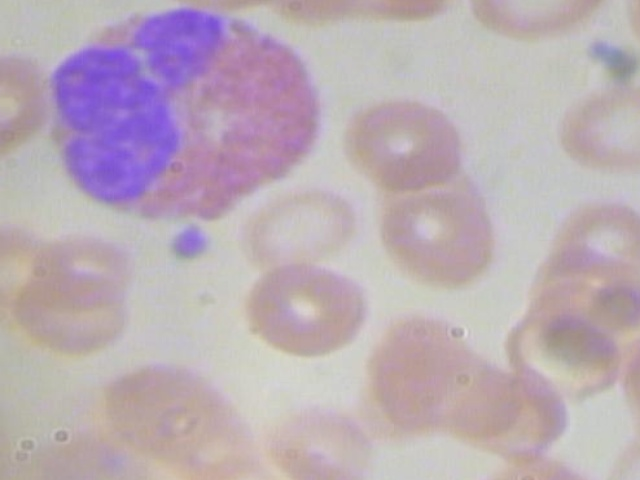Platelets: (154, 219, 216, 261)
RBC: (366, 162, 510, 293), (239, 255, 381, 363), (346, 93, 472, 193), (6, 266, 137, 361), (242, 175, 368, 271), (552, 71, 640, 184), (553, 192, 640, 277), (610, 328, 640, 454)
WBC: (2, 0, 348, 227)
